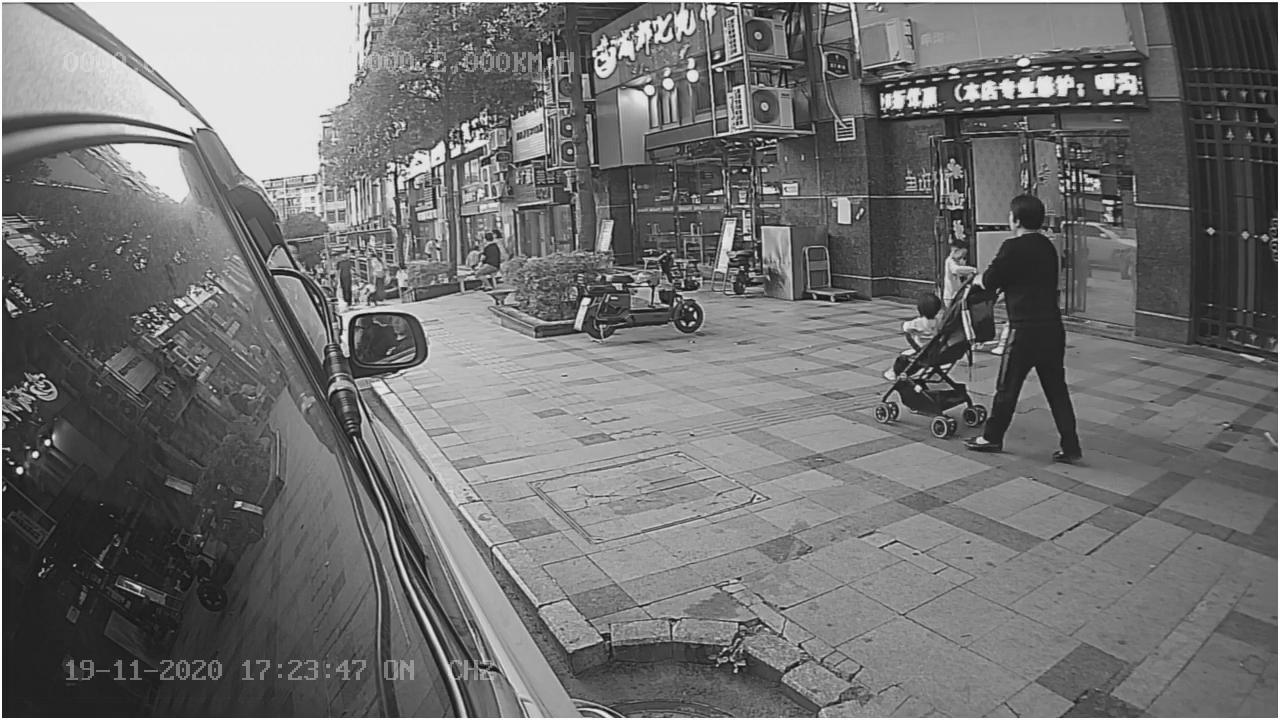person: (963, 189, 1091, 471)
